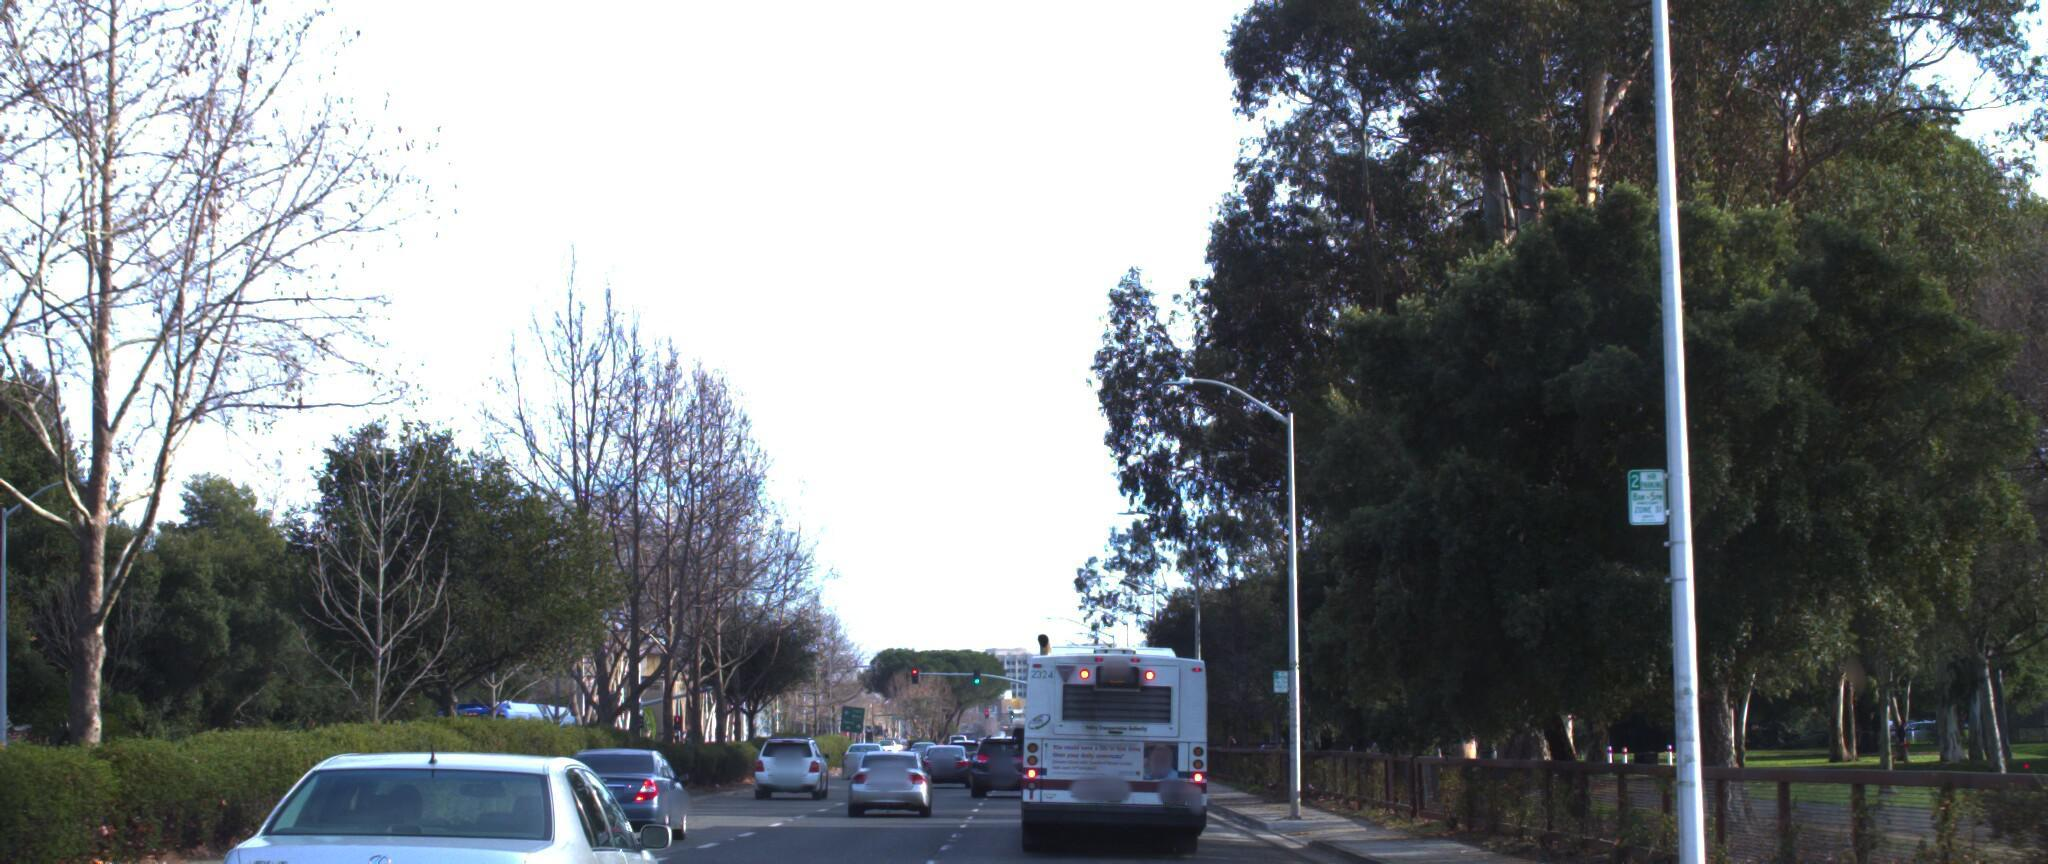bus: (1015, 623, 1230, 861)
car: (199, 735, 692, 864), (555, 730, 704, 839), (853, 723, 948, 795), (761, 727, 839, 792)
